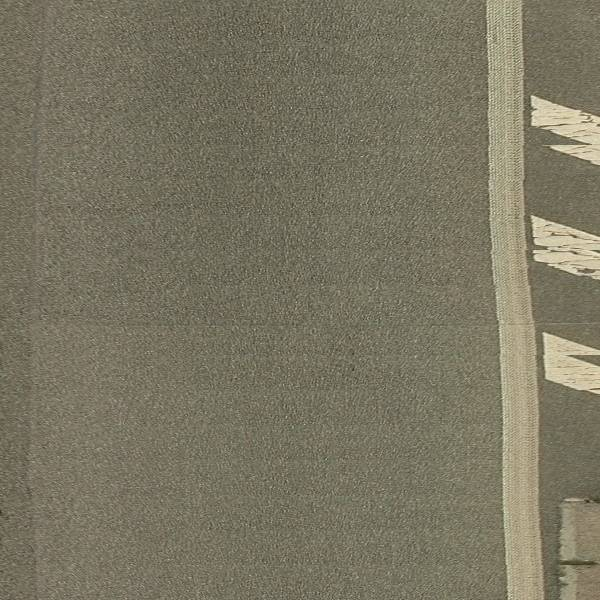road_damage: (19, 125, 49, 544)
